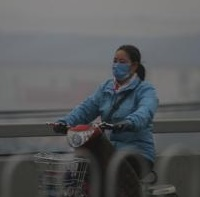person: (64, 42, 157, 175)
